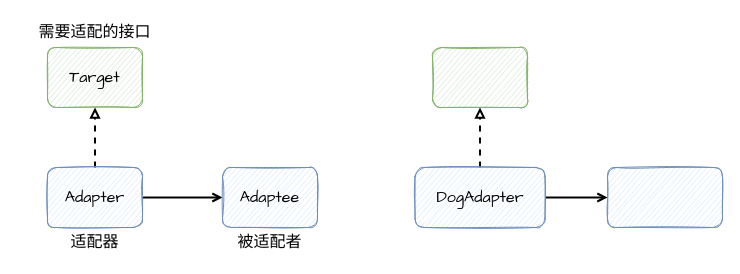
This 740x274 diagram has some shape labels left out. Here are the shapes that lost their labels. From the top down, the centre of each, then its label:
At pixel 480 77: "Duck".
At pixel 664 197: "BeautifulDog".
